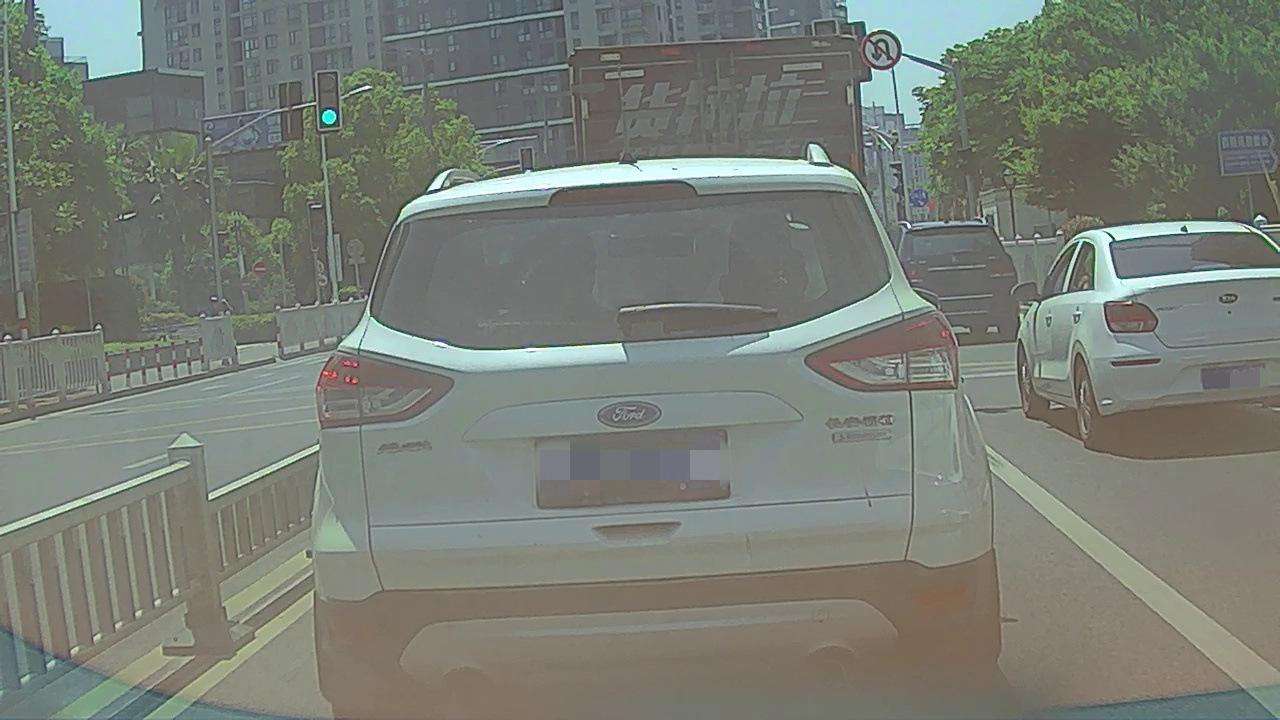traffic_light: (317, 72, 341, 131)
